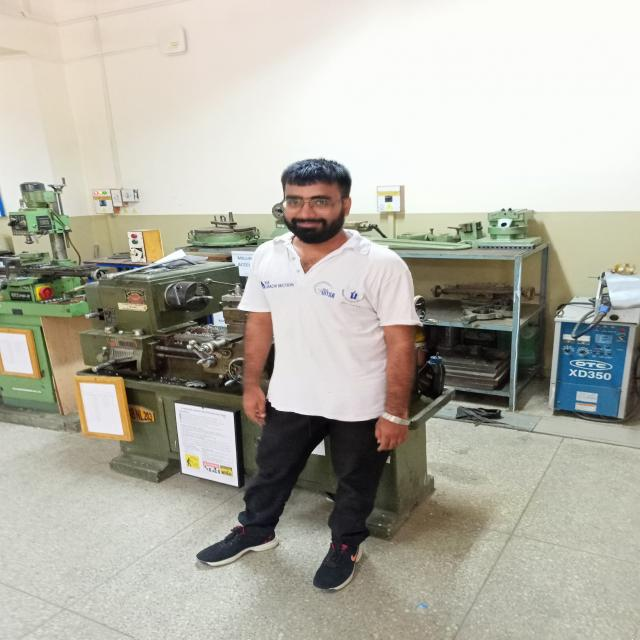dress: (235, 224, 426, 542)
glasses: (280, 192, 342, 214)
